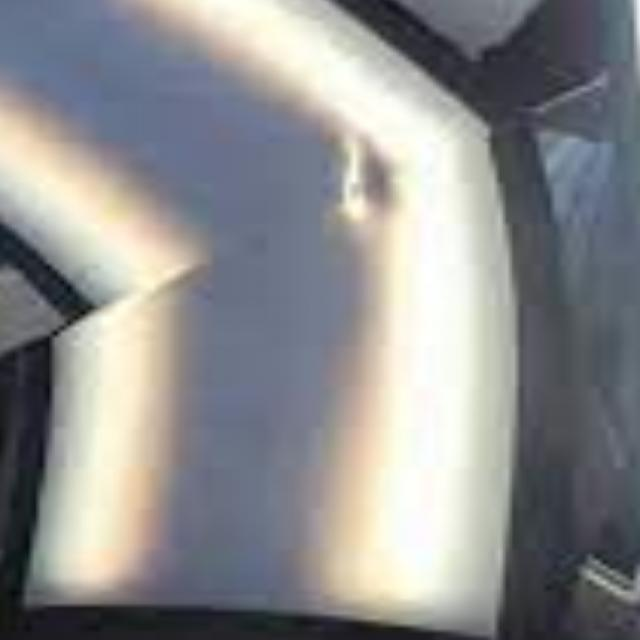dents: (308, 121, 416, 243)
